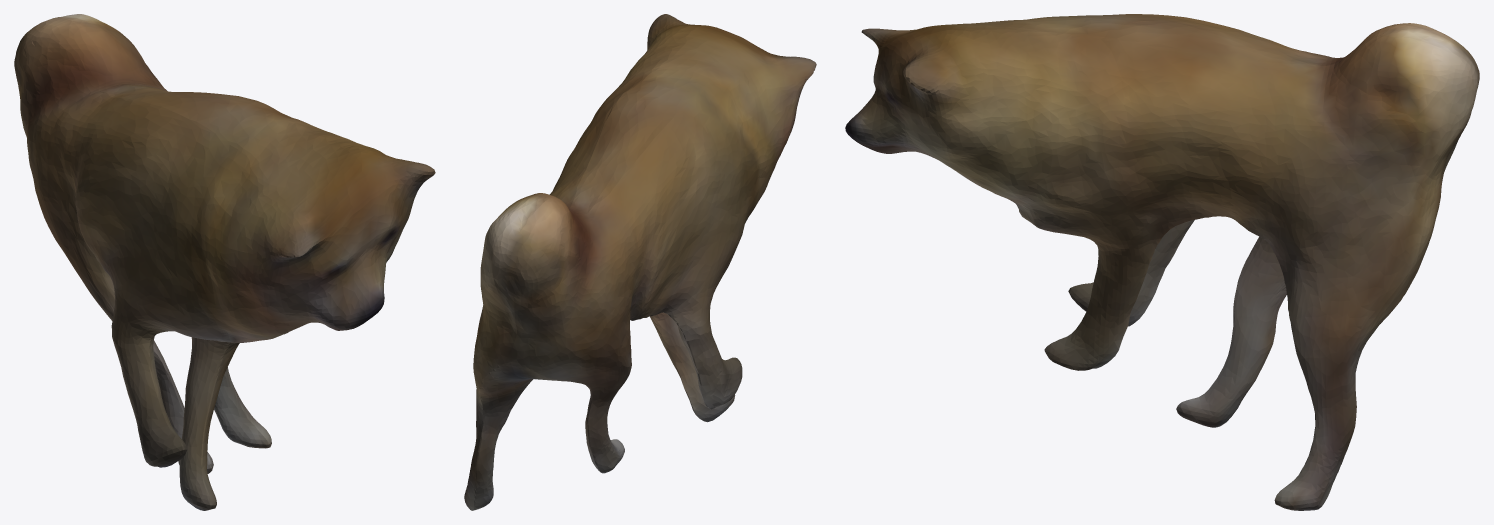
The model's file is shiba-haru-1002-mesh-00004.obj.
3 renders of one model, left to right at view 1: azimuth 30°, elevation 25°; view 2: azimuth 150°, elevation 25°; view 3: azimuth 270°, elevation 25°, orthographic. The views are drawn at different scales.
Bounding box in the file's own units: 0.0379 × 0.0747 × 0.0969.
